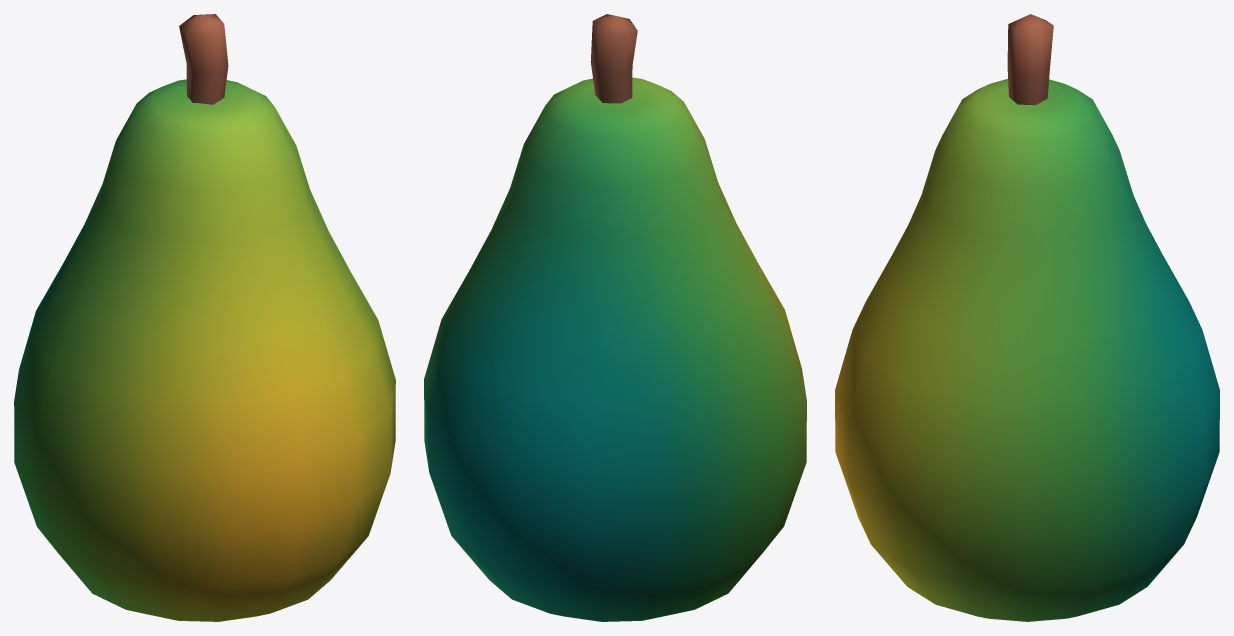
The model's file is avocado_001.fbx.
3 views of the same model, side by side, from view 1: azimuth 30°, elevation 25°; view 2: azimuth 150°, elevation 25°; view 3: azimuth 270°, elevation 25° (orthographic).
Visible parts, largest first — view 1: avocado_001; view 2: avocado_001; view 3: avocado_001.
Boxes of the visible parts, box(x1,y1,x2,y2) form: avocado_001: box(14, 14, 395, 621); avocado_001: box(424, 14, 806, 621); avocado_001: box(835, 14, 1219, 621).
Bounding box in the file's own units: 9.81 × 9.81 × 16.07.
